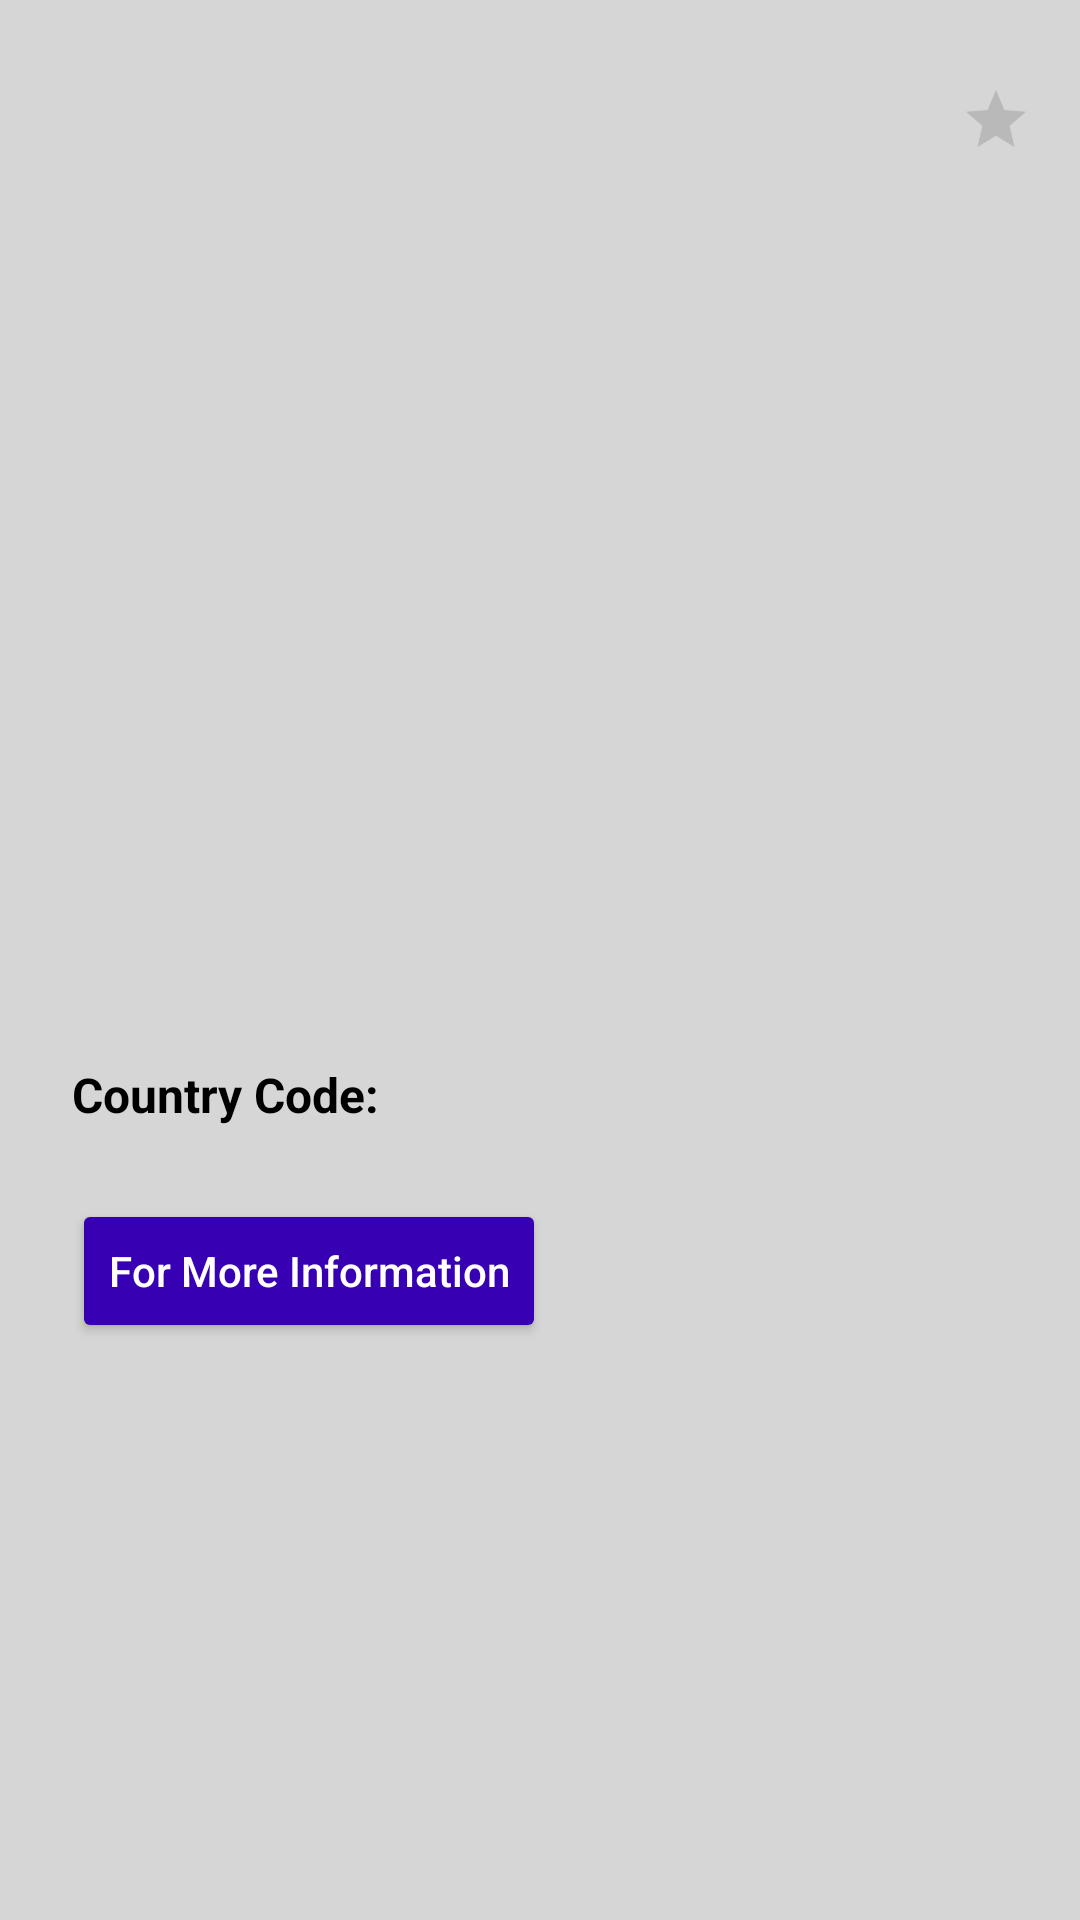

Named icons in this screenshot (1080*1920) and their bounding boxes, (x1, y1, x2, y2):
star not: (967, 92, 1025, 146)
